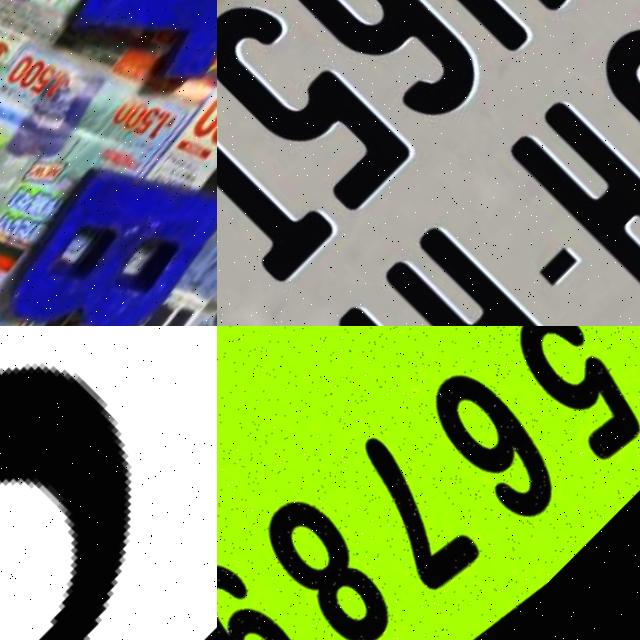4: (551, 326, 640, 432)
5: (217, 0, 427, 219), (466, 326, 640, 494)
6: (385, 340, 613, 560), (255, 0, 505, 140), (579, 5, 640, 244)
7: (297, 402, 517, 613)
8: (228, 473, 460, 640)
9: (217, 530, 383, 640)
B: (0, 121, 217, 326)
H: (503, 99, 640, 326), (376, 217, 612, 326)
S: (0, 326, 217, 640)
T: (217, 61, 350, 292), (55, 0, 217, 119)
U: (333, 0, 580, 58)
